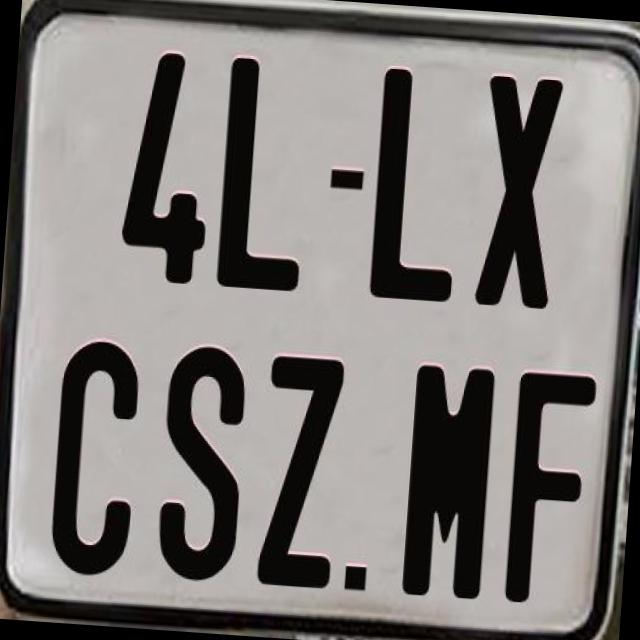4: (115, 47, 218, 289)
C: (46, 338, 140, 578)
F: (503, 368, 598, 611)
L: (212, 55, 316, 298), (366, 64, 466, 308)
M: (401, 362, 500, 607)
S: (152, 343, 250, 587)
X: (472, 75, 562, 315)
Z: (253, 355, 344, 598)
